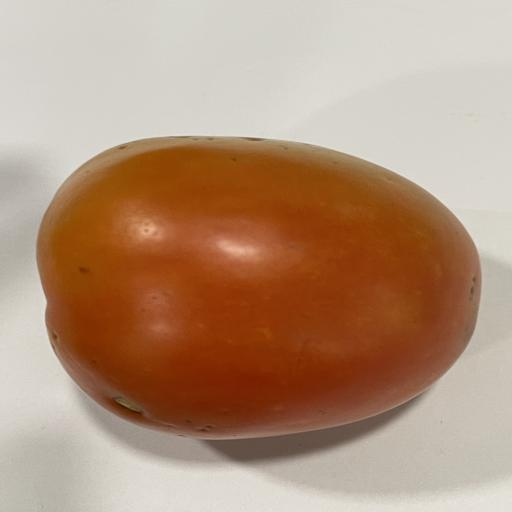unripe: (37, 136, 481, 439)
